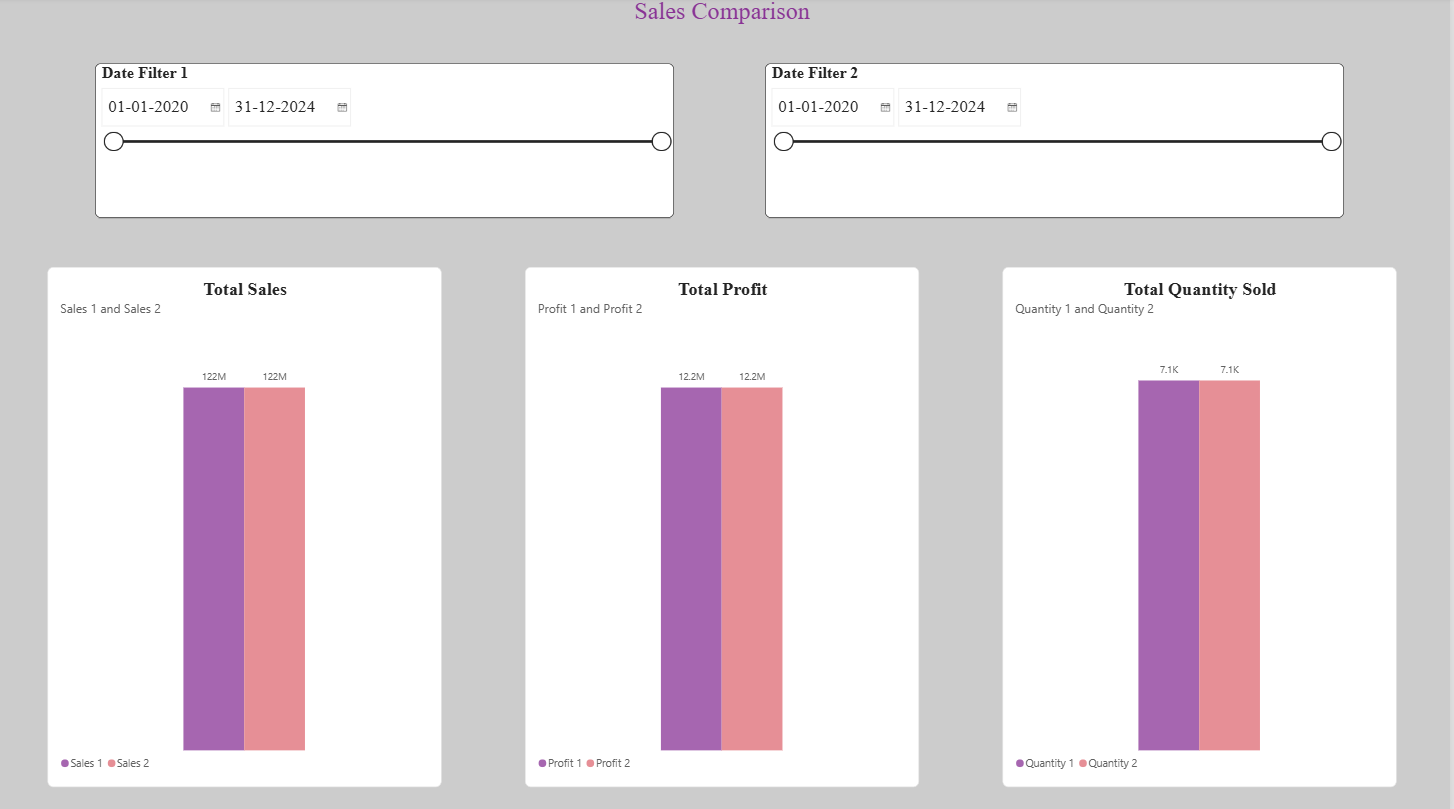

The dashboard page shown, as its layout file describes it:
{"tool":"powerbi","page":{"name":"Sales comparison","canvas":[1920,1080],"ordinal":2},"visuals":[{"type":"slicer","fields":{"Values":["Date Table 1.Date"]},"box":[132,88,764,204],"z":0},{"type":"slicer","fields":{"Values":["Data Table 2.Date"]},"box":[1016,88,764,204],"z":1000},{"type":"clusteredColumnChart","title":"Total Sales","fields":{"Y":["Sum(Fact Table.Net sales)","Date Table 1.sum of Net sales"]},"box":[70,356,520,686],"z":2000},{"type":"clusteredColumnChart","title":"Total Profit","fields":{"Y":["Sum(Fact Table.Profit)","measureTable.Total Profit"]},"box":[700,356,520,686],"z":3000},{"type":"clusteredColumnChart","title":"Total Quantity Sold","fields":{"Y":["Sum(Fact Table.Units Sold)","measureTable.Quantity sold"]},"box":[1330,356,520,686],"z":4000},{"type":"textbox","box":[667,0,586,64],"z":4001}]}

Visuals, with their boxes in screenshot pixels (x1, y1, x2, y2), scaled from the page's 1920x1080 canvas onto the 1454x809 screenshot:
slicer - Date Table 1.Date: pyautogui.locateOnScreen(100, 66, 679, 219)
slicer - Data Table 2.Date: pyautogui.locateOnScreen(769, 66, 1348, 219)
"Total Sales" clusteredColumnChart: pyautogui.locateOnScreen(53, 267, 447, 781)
"Total Profit" clusteredColumnChart: pyautogui.locateOnScreen(530, 267, 924, 781)
"Total Quantity Sold" clusteredColumnChart: pyautogui.locateOnScreen(1007, 267, 1401, 781)
textbox: pyautogui.locateOnScreen(505, 0, 949, 48)
